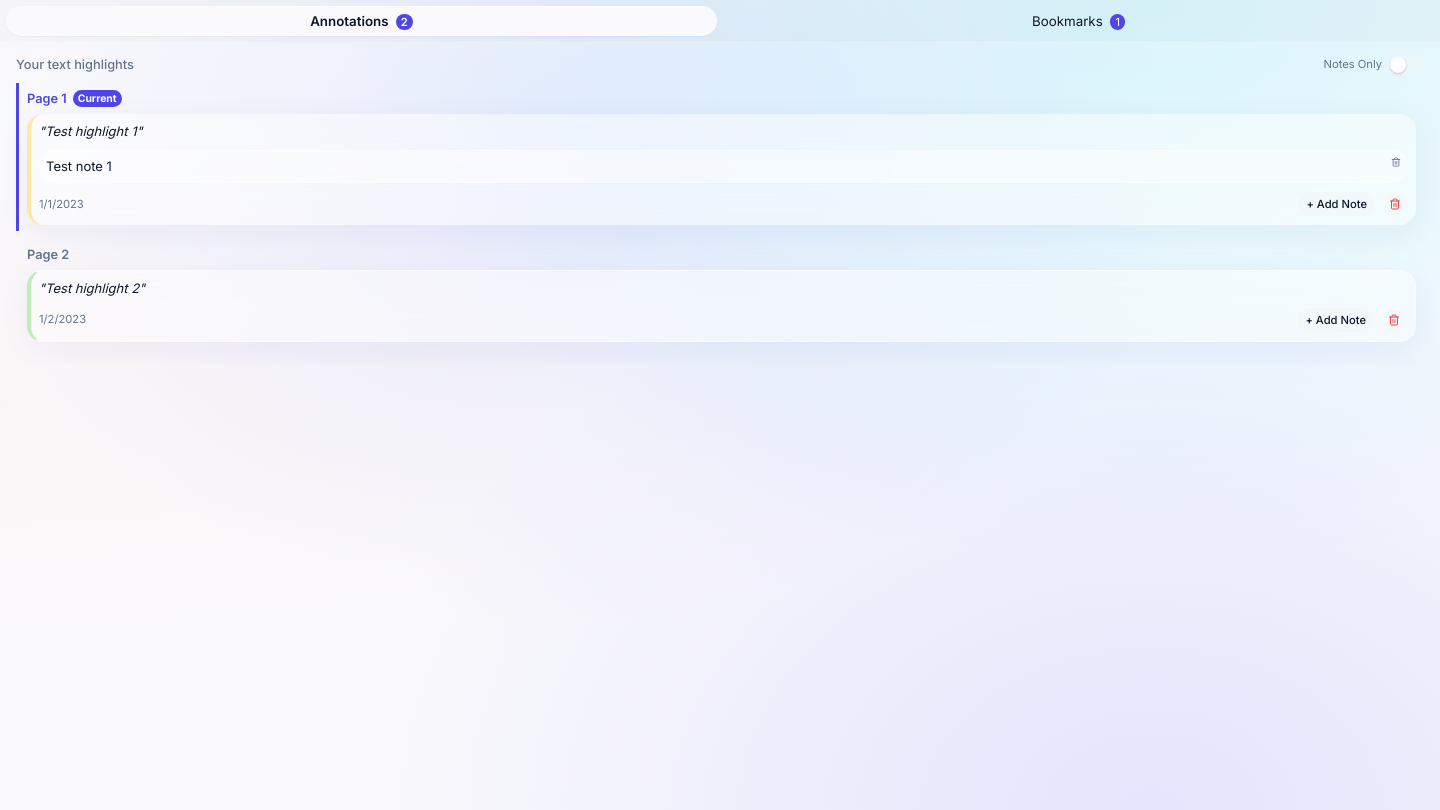
NoteSidebar component › can delete a highlight with two-step confirmation
Expected: the text "\"Test highlight 1\"" is shown, [39,123,142,139]
First click: triggers "Delete?" state
Click the button named "Delete Highlight" in the row of "1/1/2023" at (1395, 204), box [1382,191,1408,217]
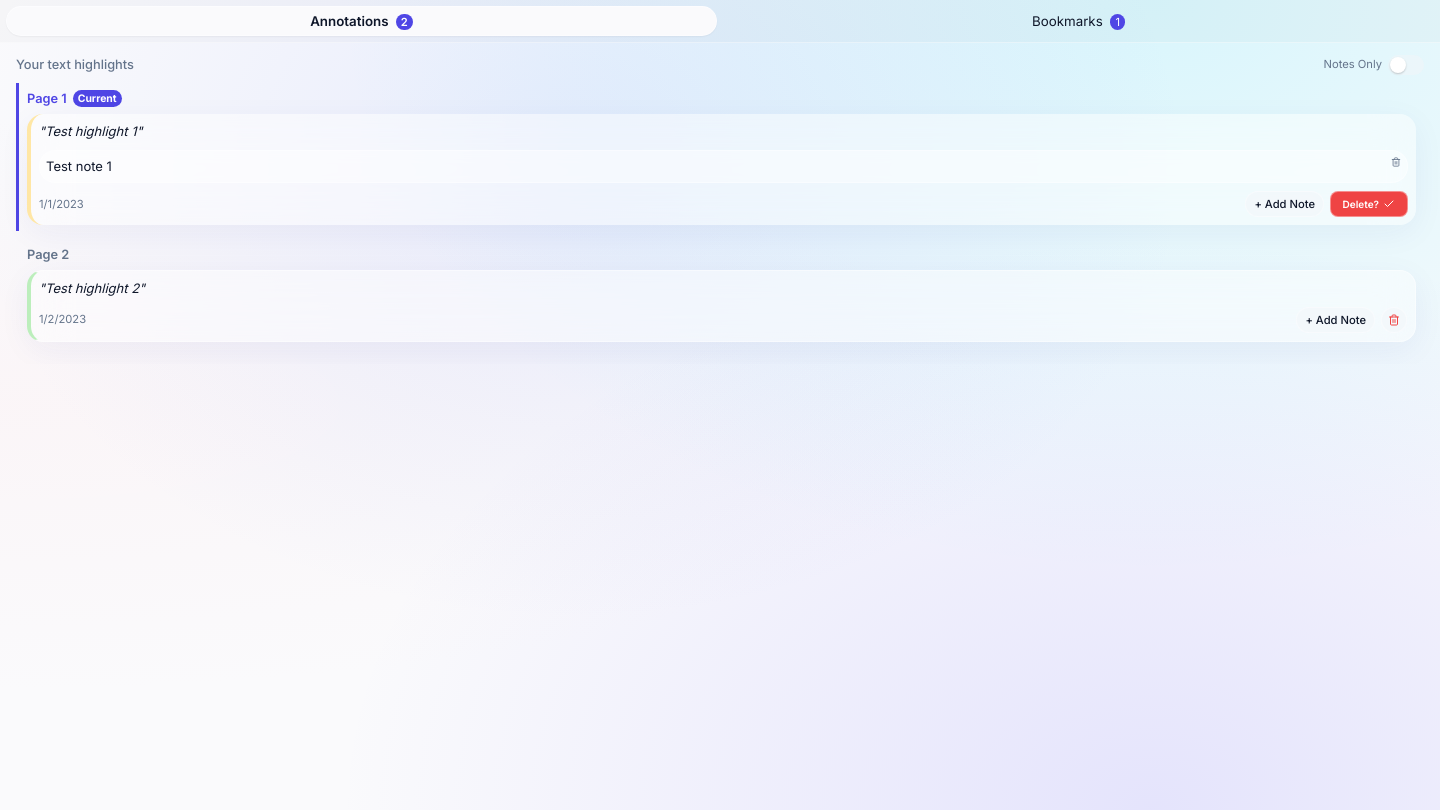
Result: the text "Delete?" is shown at [1342,198,1379,210]
Second click: performs deletion
Click the button titled "Confirm Delete" at (1369, 204), box [1330,191,1408,217]
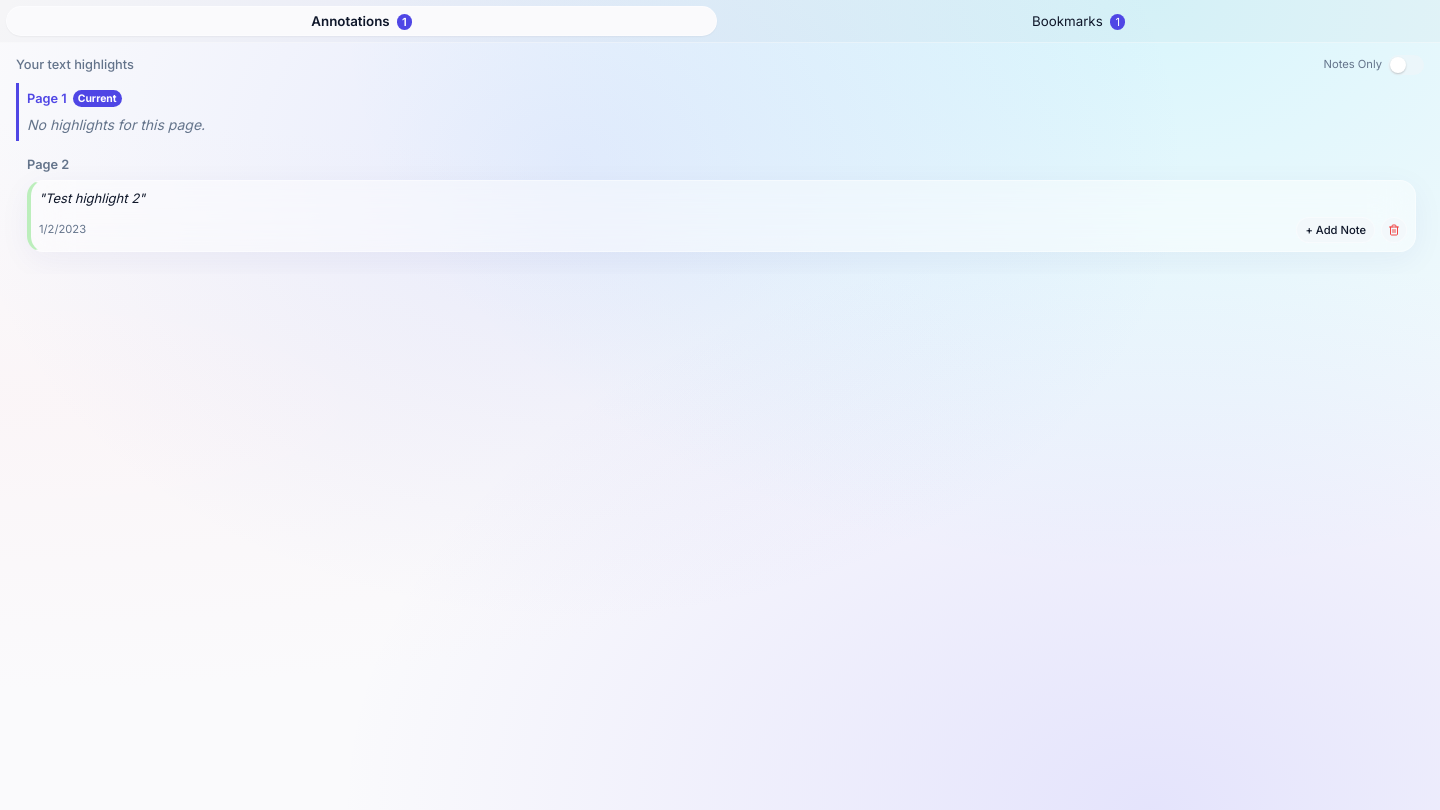
Result: the text "Test highlight 1" is gone
